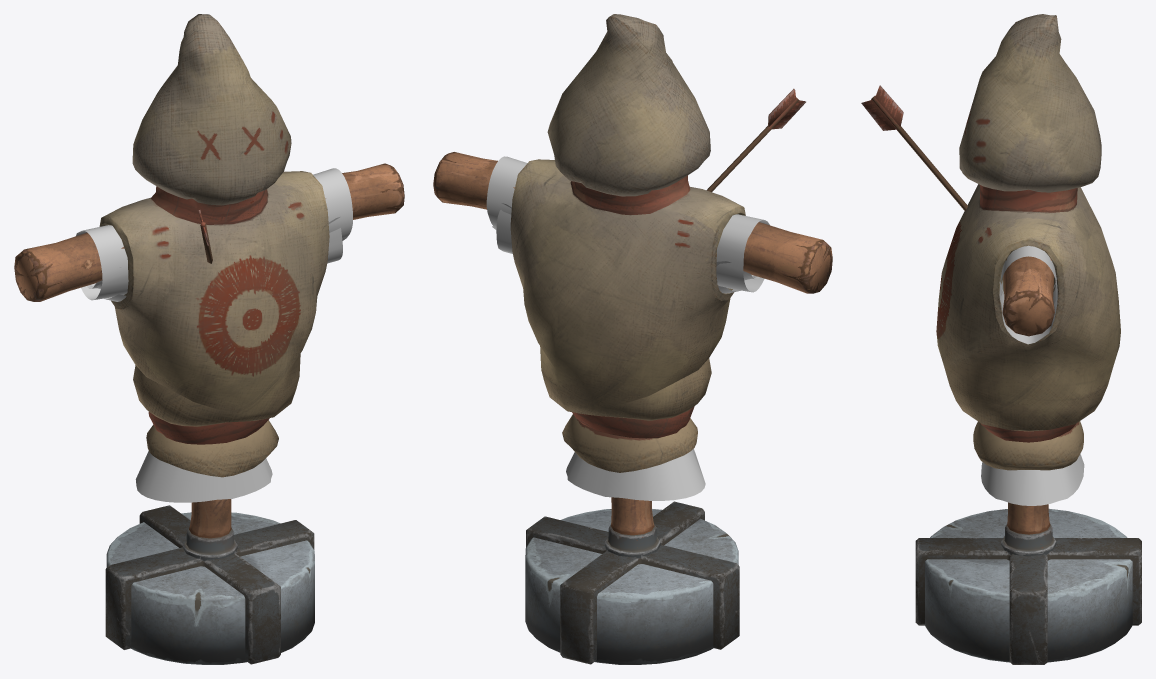
Rendered from practice-dummy-low.fbx.
3 views of the same model, side by side, from view 1: azimuth 30°, elevation 25°; view 2: azimuth 150°, elevation 25°; view 3: azimuth 270°, elevation 25° (orthographic). The views are drawn at different scales.
Parts seen in each view (by area): view 1: practice-dummy-6-low, practice-dummy-7-low, practice-dummy-9-low, practice-dummy-alpha-low, practice-dummy-4-low, practice-dummy-8-low; view 2: practice-dummy-6-low, practice-dummy-7-low, practice-dummy-9-low, practice-dummy-alpha-low, practice-dummy-4-low, practice-dummy-8-low, practice-dummy-5-low; view 3: practice-dummy-6-low, practice-dummy-7-low, practice-dummy-9-low, practice-dummy-alpha-low, practice-dummy-4-low, practice-dummy-8-low, practice-dummy-5-low.
Boxes of the visible parts, x1=… form: practice-dummy-6-low: x1=99, y1=14, x2=329, y2=477; practice-dummy-7-low: x1=106, y1=512, x2=314, y2=664; practice-dummy-9-low: x1=105, y1=505, x2=314, y2=664; practice-dummy-alpha-low: x1=76, y1=168, x2=352, y2=502; practice-dummy-4-low: x1=14, y1=163, x2=404, y2=301; practice-dummy-8-low: x1=183, y1=499, x2=237, y2=560; practice-dummy-6-low: x1=510, y1=14, x2=745, y2=472; practice-dummy-7-low: x1=525, y1=509, x2=738, y2=664; practice-dummy-9-low: x1=526, y1=501, x2=739, y2=664; practice-dummy-alpha-low: x1=486, y1=156, x2=769, y2=500; practice-dummy-4-low: x1=433, y1=152, x2=832, y2=293; practice-dummy-8-low: x1=604, y1=497, x2=660, y2=558; practice-dummy-5-low: x1=706, y1=88, x2=805, y2=191; practice-dummy-6-low: x1=936, y1=14, x2=1120, y2=470; practice-dummy-7-low: x1=924, y1=508, x2=1132, y2=662; practice-dummy-9-low: x1=915, y1=538, x2=1141, y2=664; practice-dummy-alpha-low: x1=981, y1=245, x2=1084, y2=505; practice-dummy-4-low: x1=1002, y1=256, x2=1054, y2=336; practice-dummy-8-low: x1=1001, y1=502, x2=1056, y2=556; practice-dummy-5-low: x1=861, y1=85, x2=967, y2=210.
Size of the model in its own units: 534 by 829 by 349.
